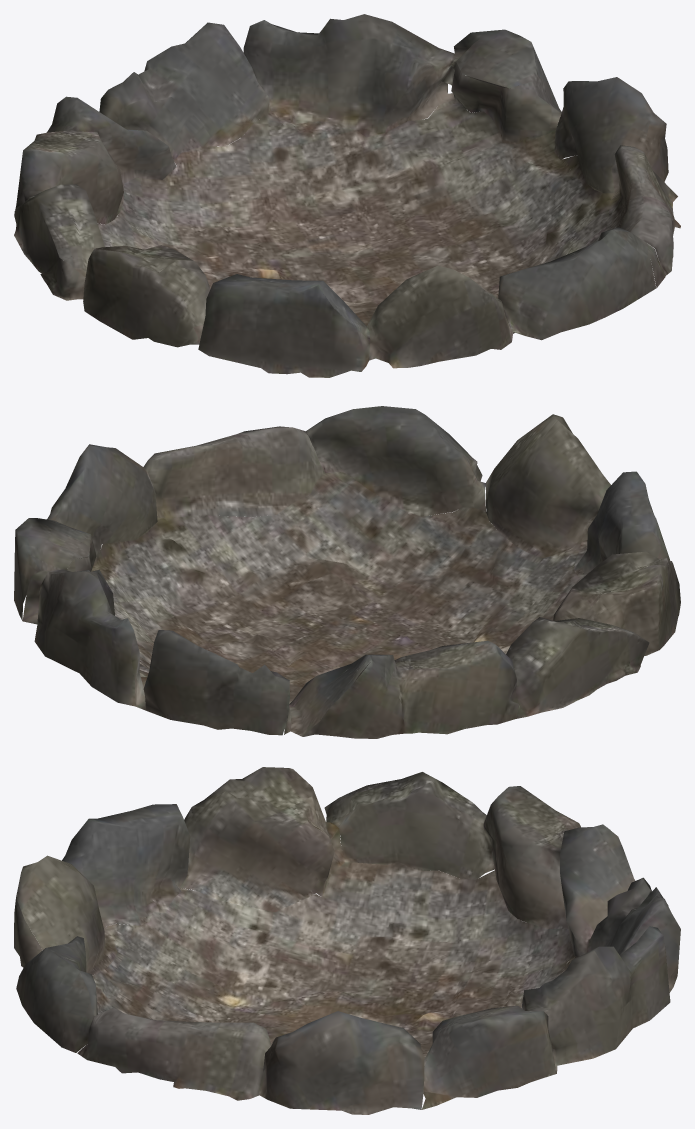
File: stone_fire_pit.glb
The picture shows the model from 3 angles, top to bottom: view 1: azimuth 30°, elevation 25°; view 2: azimuth 150°, elevation 25°; view 3: azimuth 270°, elevation 25°; orthographic projection.
Parts seen in each view (by area): view 1: stone_fire_pit; view 2: stone_fire_pit; view 3: stone_fire_pit.
Part boxes in pixels (x1,y1,x2,y2): stone_fire_pit: [14, 14, 680, 377]; stone_fire_pit: [14, 406, 680, 738]; stone_fire_pit: [14, 767, 680, 1114].
Size of the model in its own units: 1.45 by 0.3864 by 1.43.
Materials: 1 (1 with a texture image).
